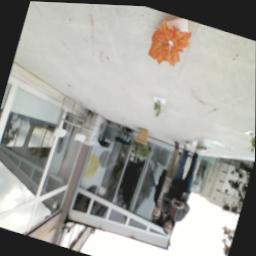herb: (151, 98, 165, 118), (247, 133, 256, 152)
wild: (146, 15, 195, 71)
